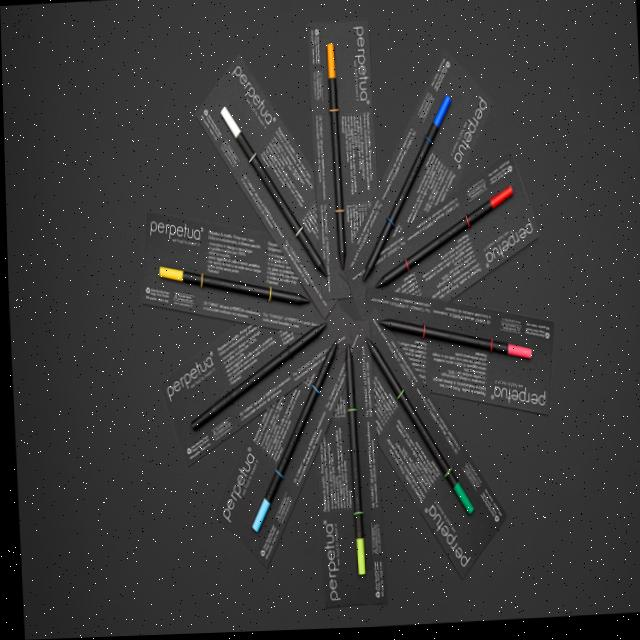pencil: (363, 338, 475, 523), (217, 106, 329, 282), (358, 96, 453, 288), (245, 340, 336, 539), (186, 323, 327, 435), (369, 186, 514, 292), (375, 319, 531, 367), (155, 265, 312, 311), (342, 340, 366, 583), (325, 45, 346, 277)
